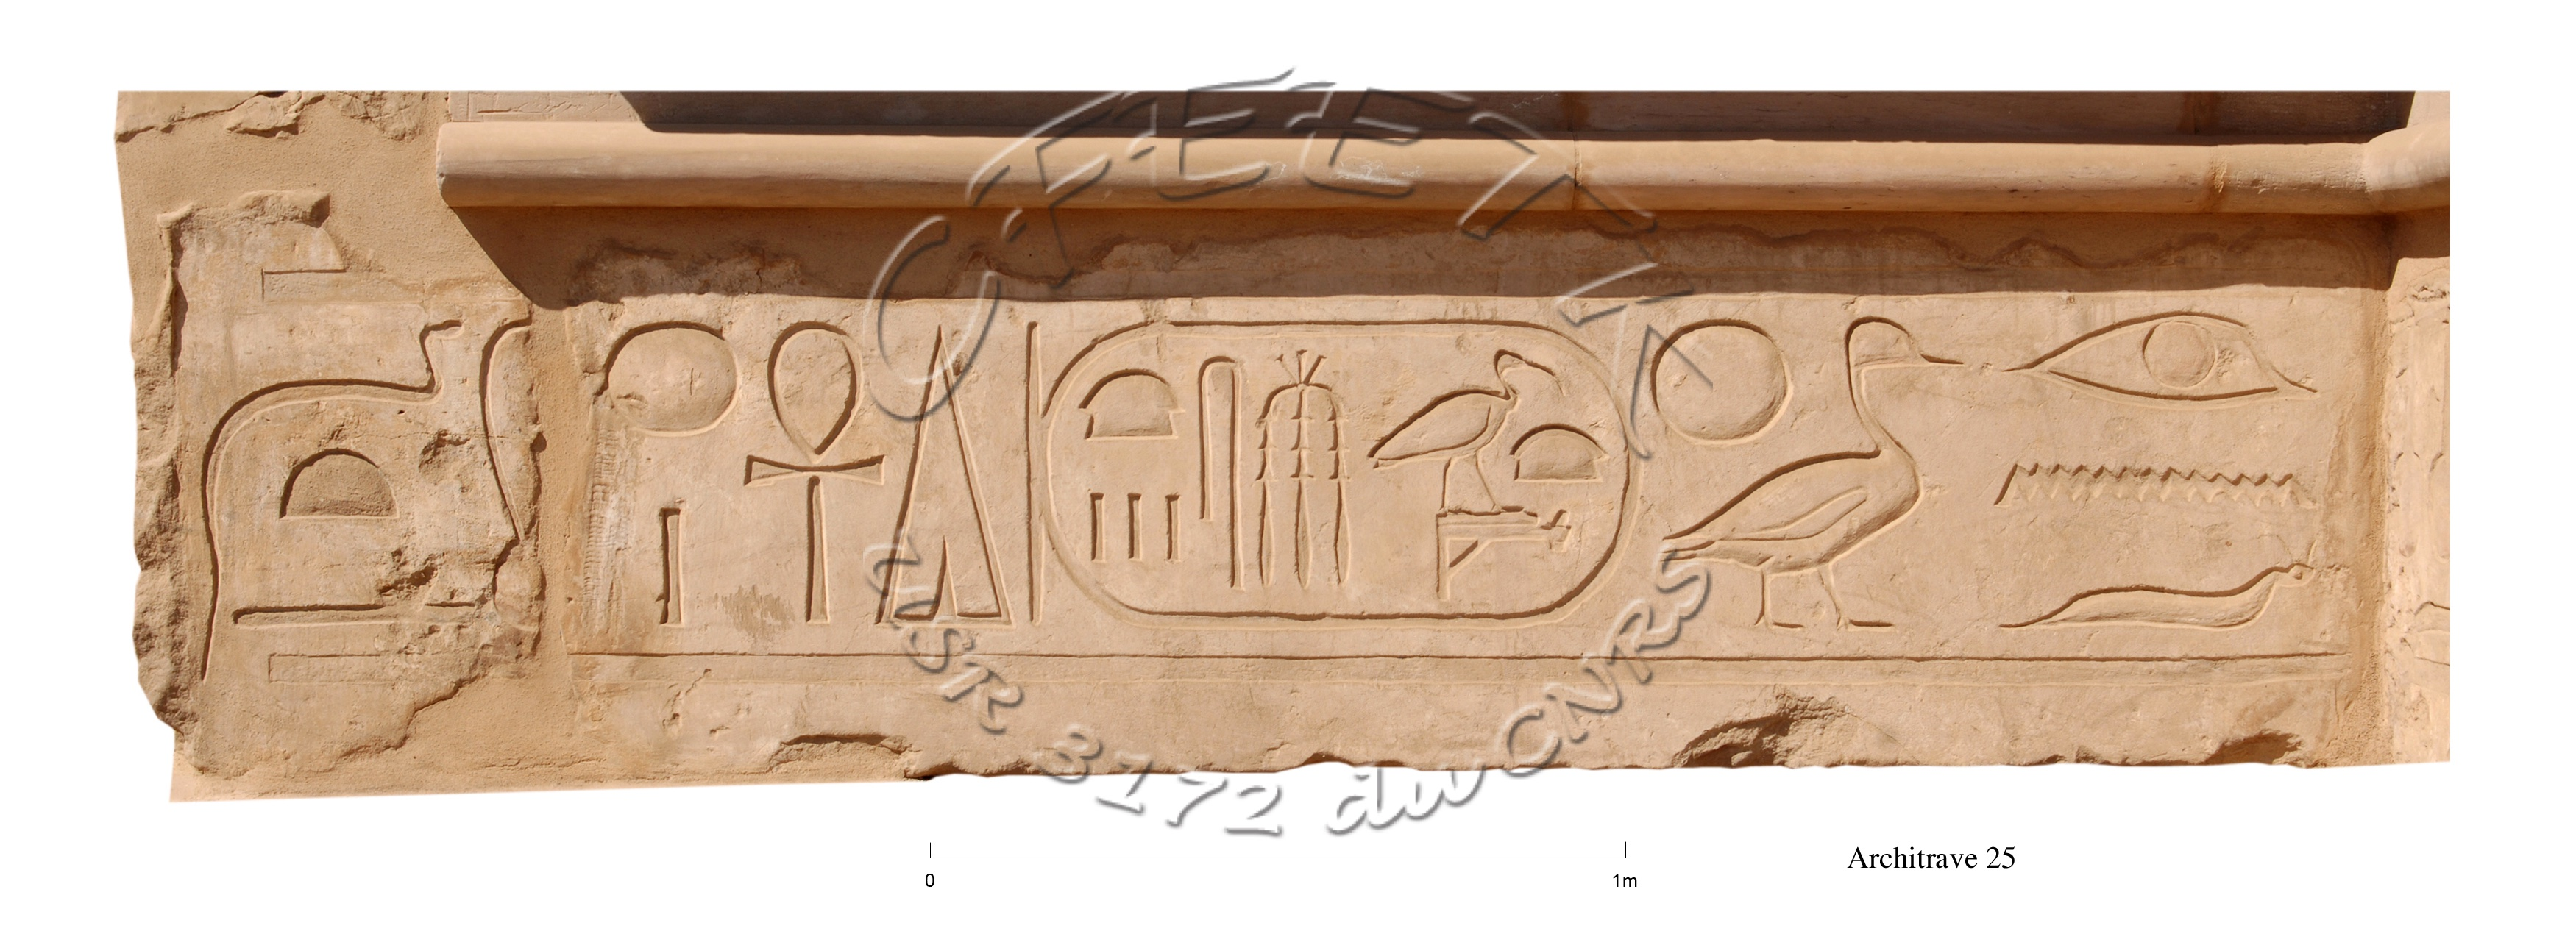D4: (1983, 291, 2343, 427)
I10: (166, 282, 471, 707)
N35: (1978, 442, 2346, 538)
X8: (864, 312, 1023, 645)
